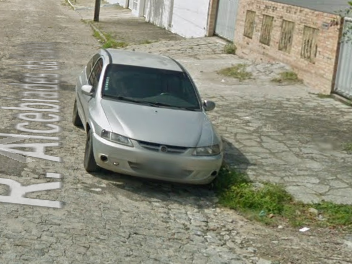car: (67, 43, 226, 195)
